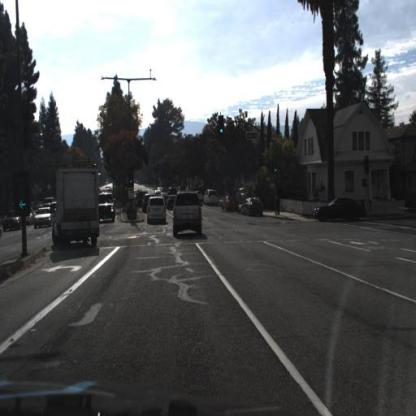car: (172, 191, 204, 243), (313, 196, 370, 225), (147, 192, 169, 228), (100, 189, 116, 225), (240, 195, 265, 218), (4, 209, 25, 233), (34, 209, 55, 228), (221, 193, 238, 214), (164, 193, 178, 213), (205, 188, 220, 206), (203, 189, 218, 206), (141, 191, 149, 211), (153, 189, 165, 198), (196, 190, 204, 201), (156, 185, 164, 195)
pedestrian: (276, 190, 283, 218)
trafficLight-Green: (219, 115, 227, 137), (218, 116, 225, 139), (274, 160, 281, 177)
trafficLight-GreenLeft: (16, 171, 32, 217), (127, 167, 134, 188)
trafficLight-RedLeft: (127, 168, 135, 189)
truck: (49, 165, 99, 246), (97, 188, 117, 228)
